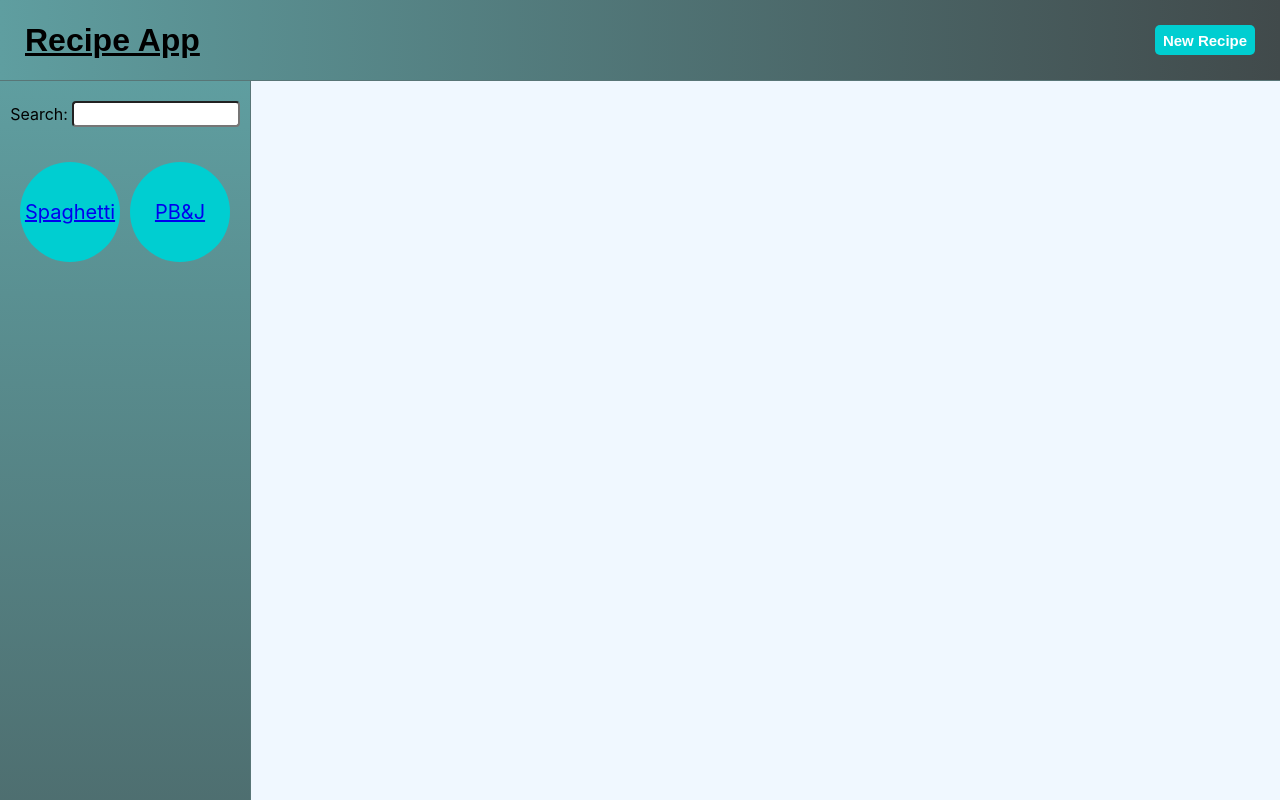
Test: Home page › should add new recipe to recipe sidbar upon submit
This screenshot has width=1280, height=800.
Click the button at (1205, 40), box [1155,25,1255,55]
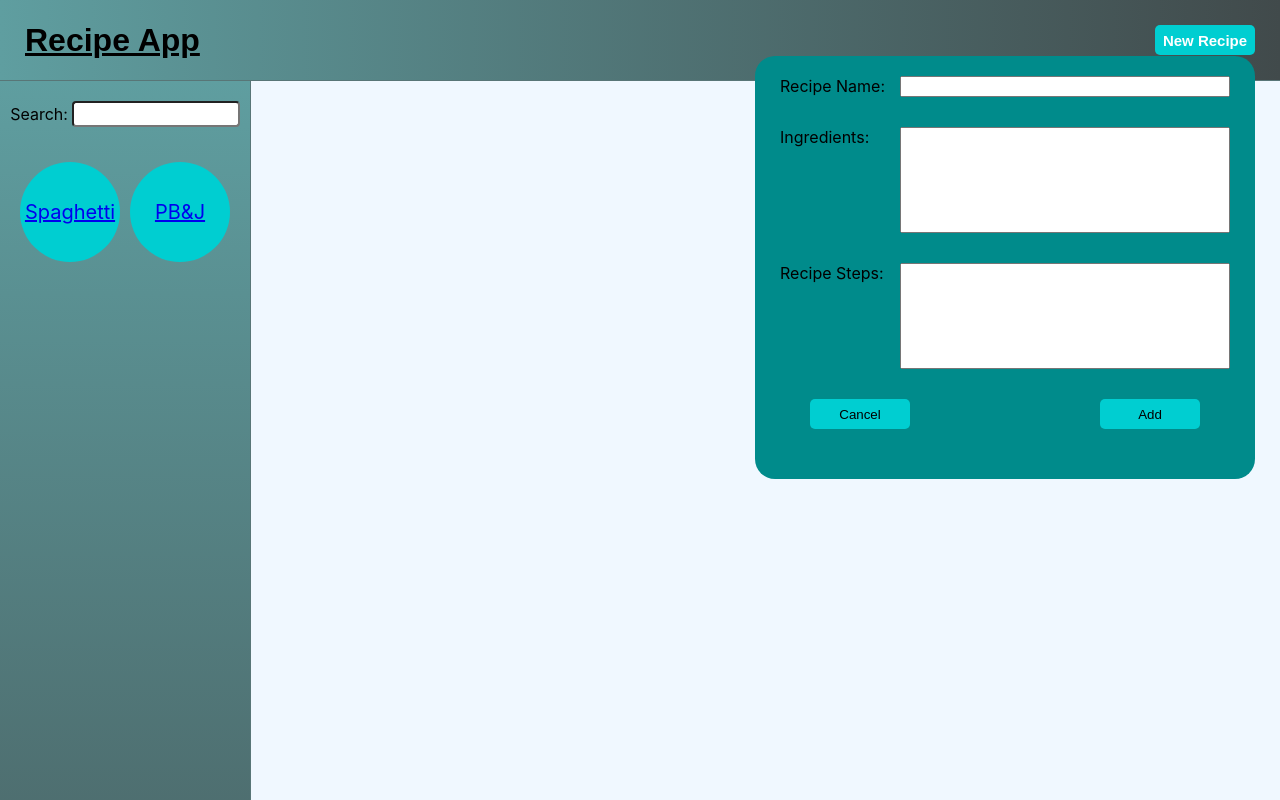
Type "New Yummy" into the field with id "recipeName" at (1065, 87), box [900,76,1230,97]
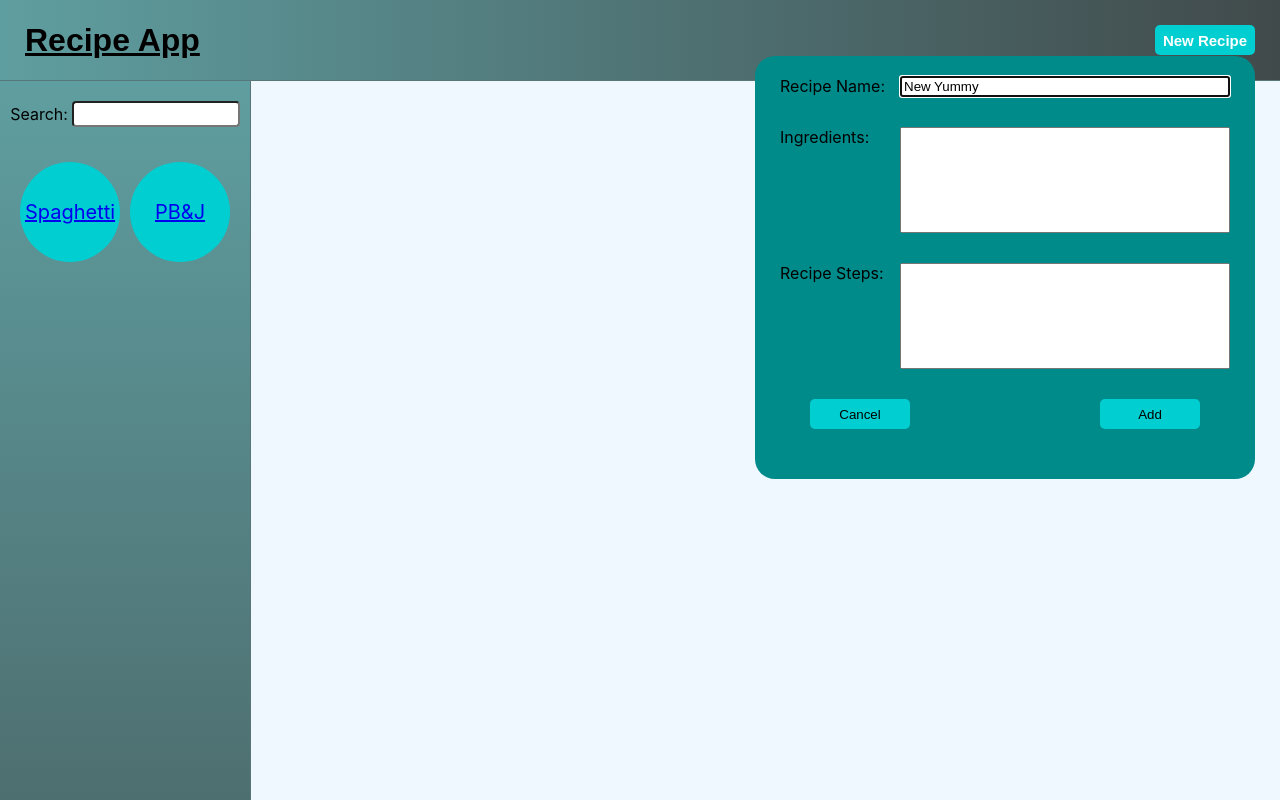
Type "some stuff" into the text box with id "ingredients" at (1065, 180), box [900,127,1230,233]
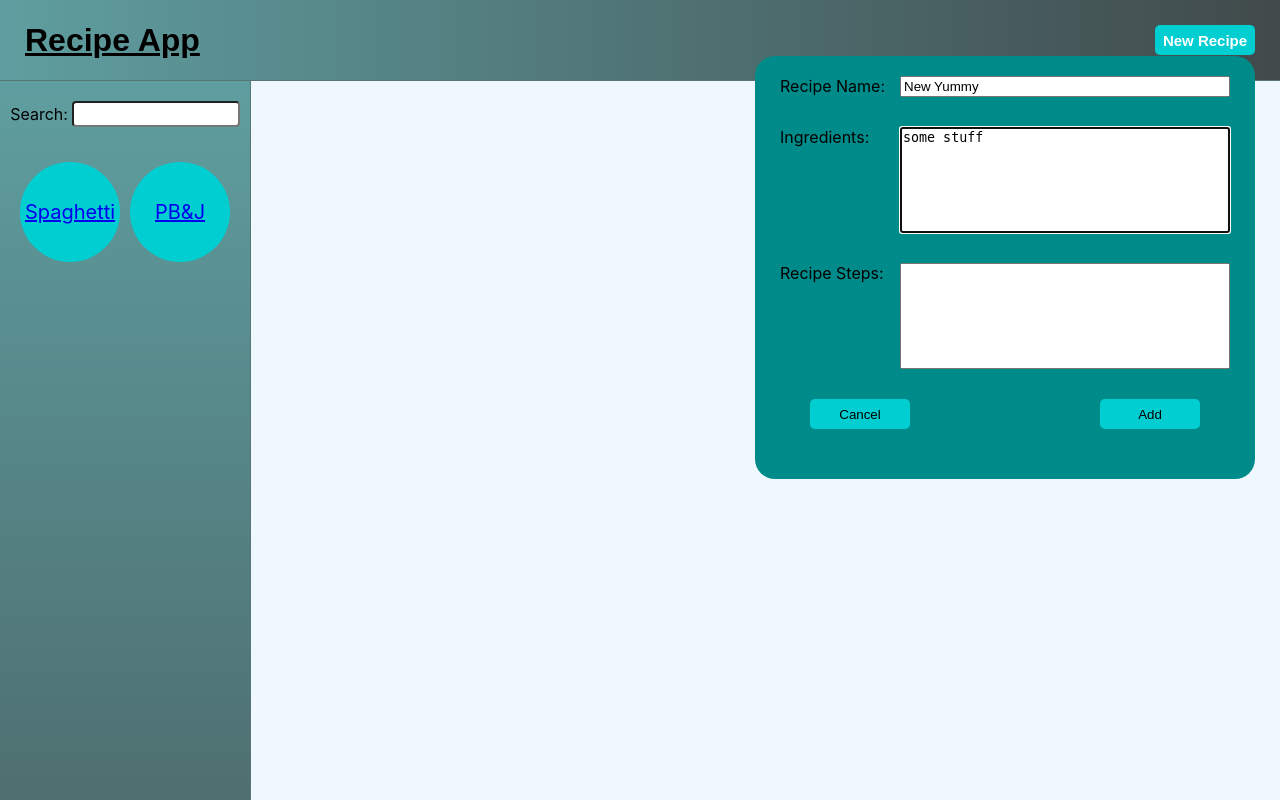
Type "cook it" into the text box with id "recipeSteps" at (1065, 316), box [900,263,1230,369]
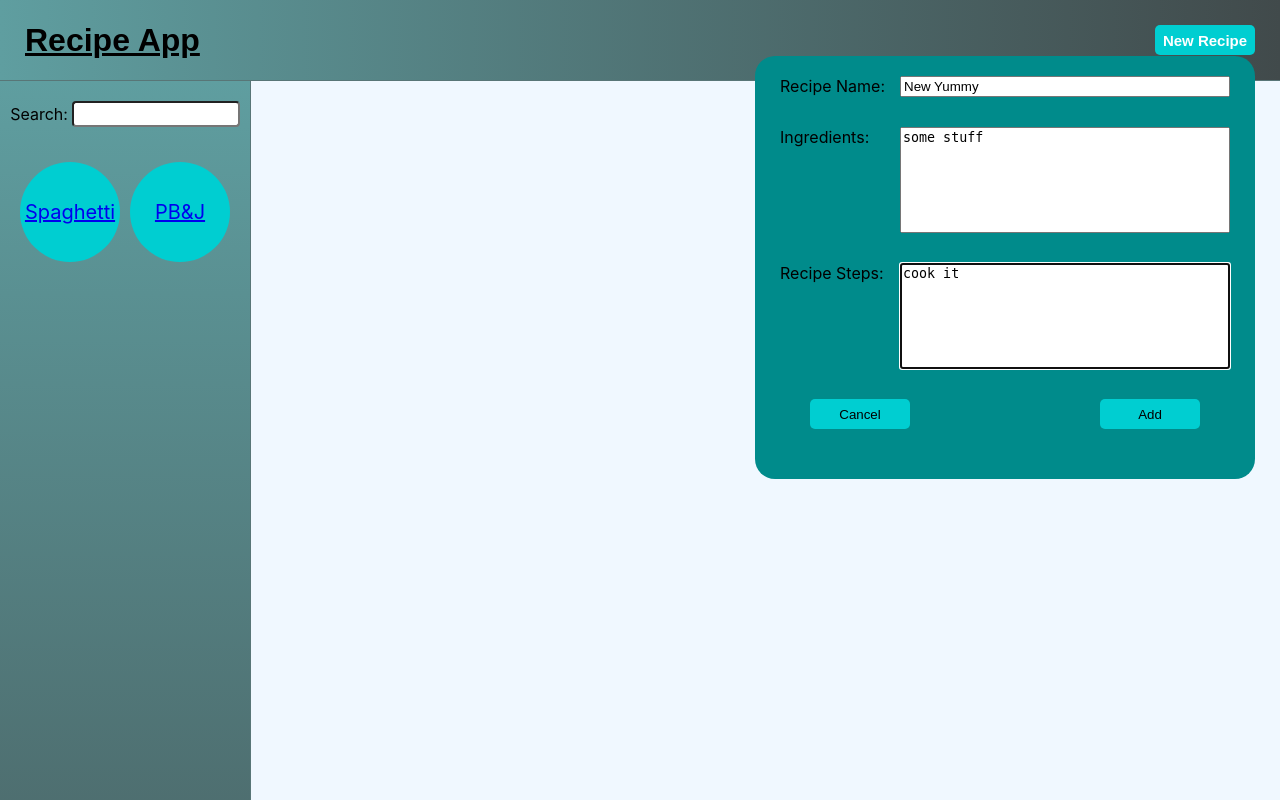
Click the button with id "addBtn" at (1150, 414), box [1100,399,1200,429]
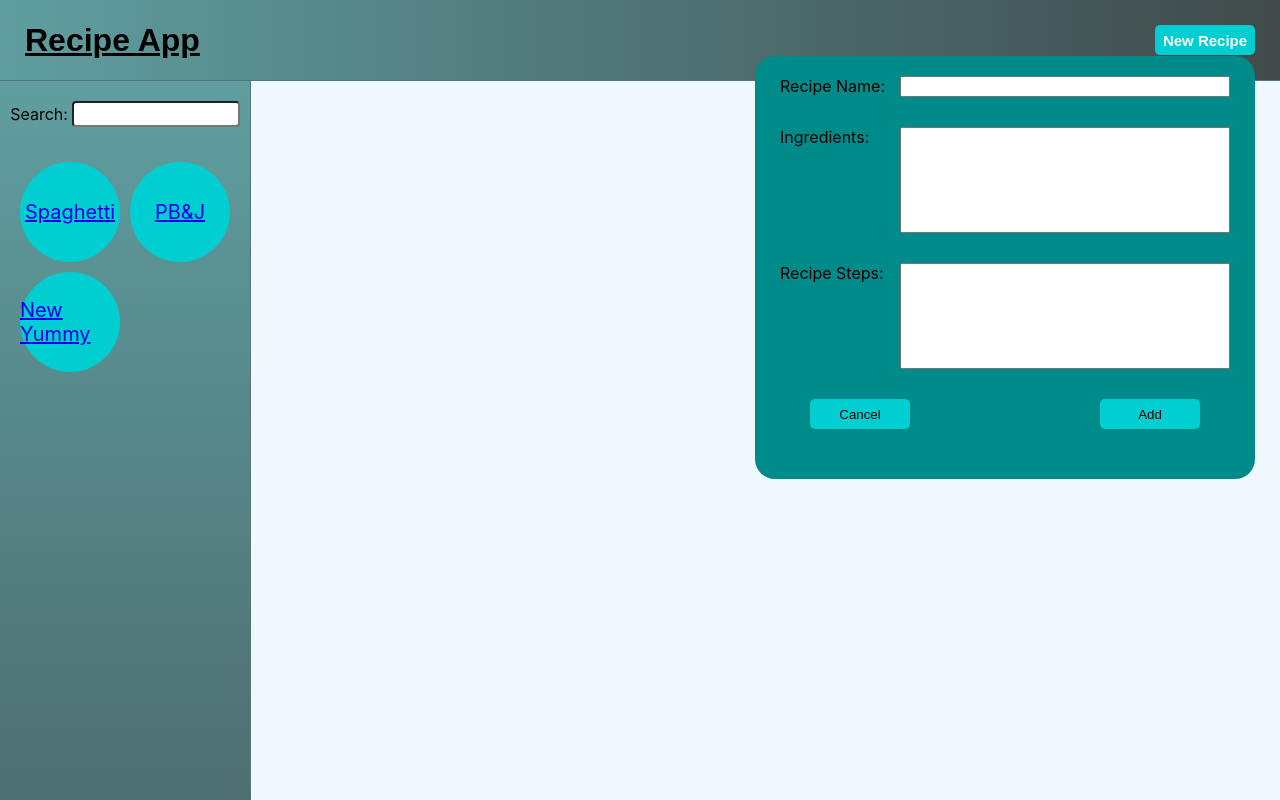
Check: the link "New Yummy" is shown, box [15,267,125,377]
